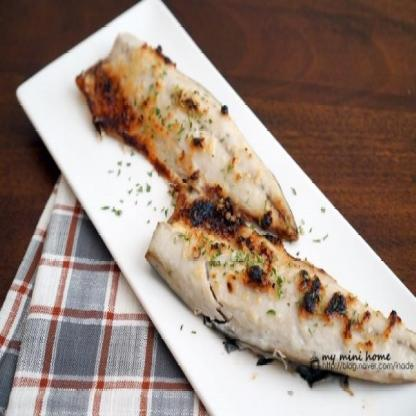Peixe: (141, 184, 416, 396), (83, 18, 299, 258)
